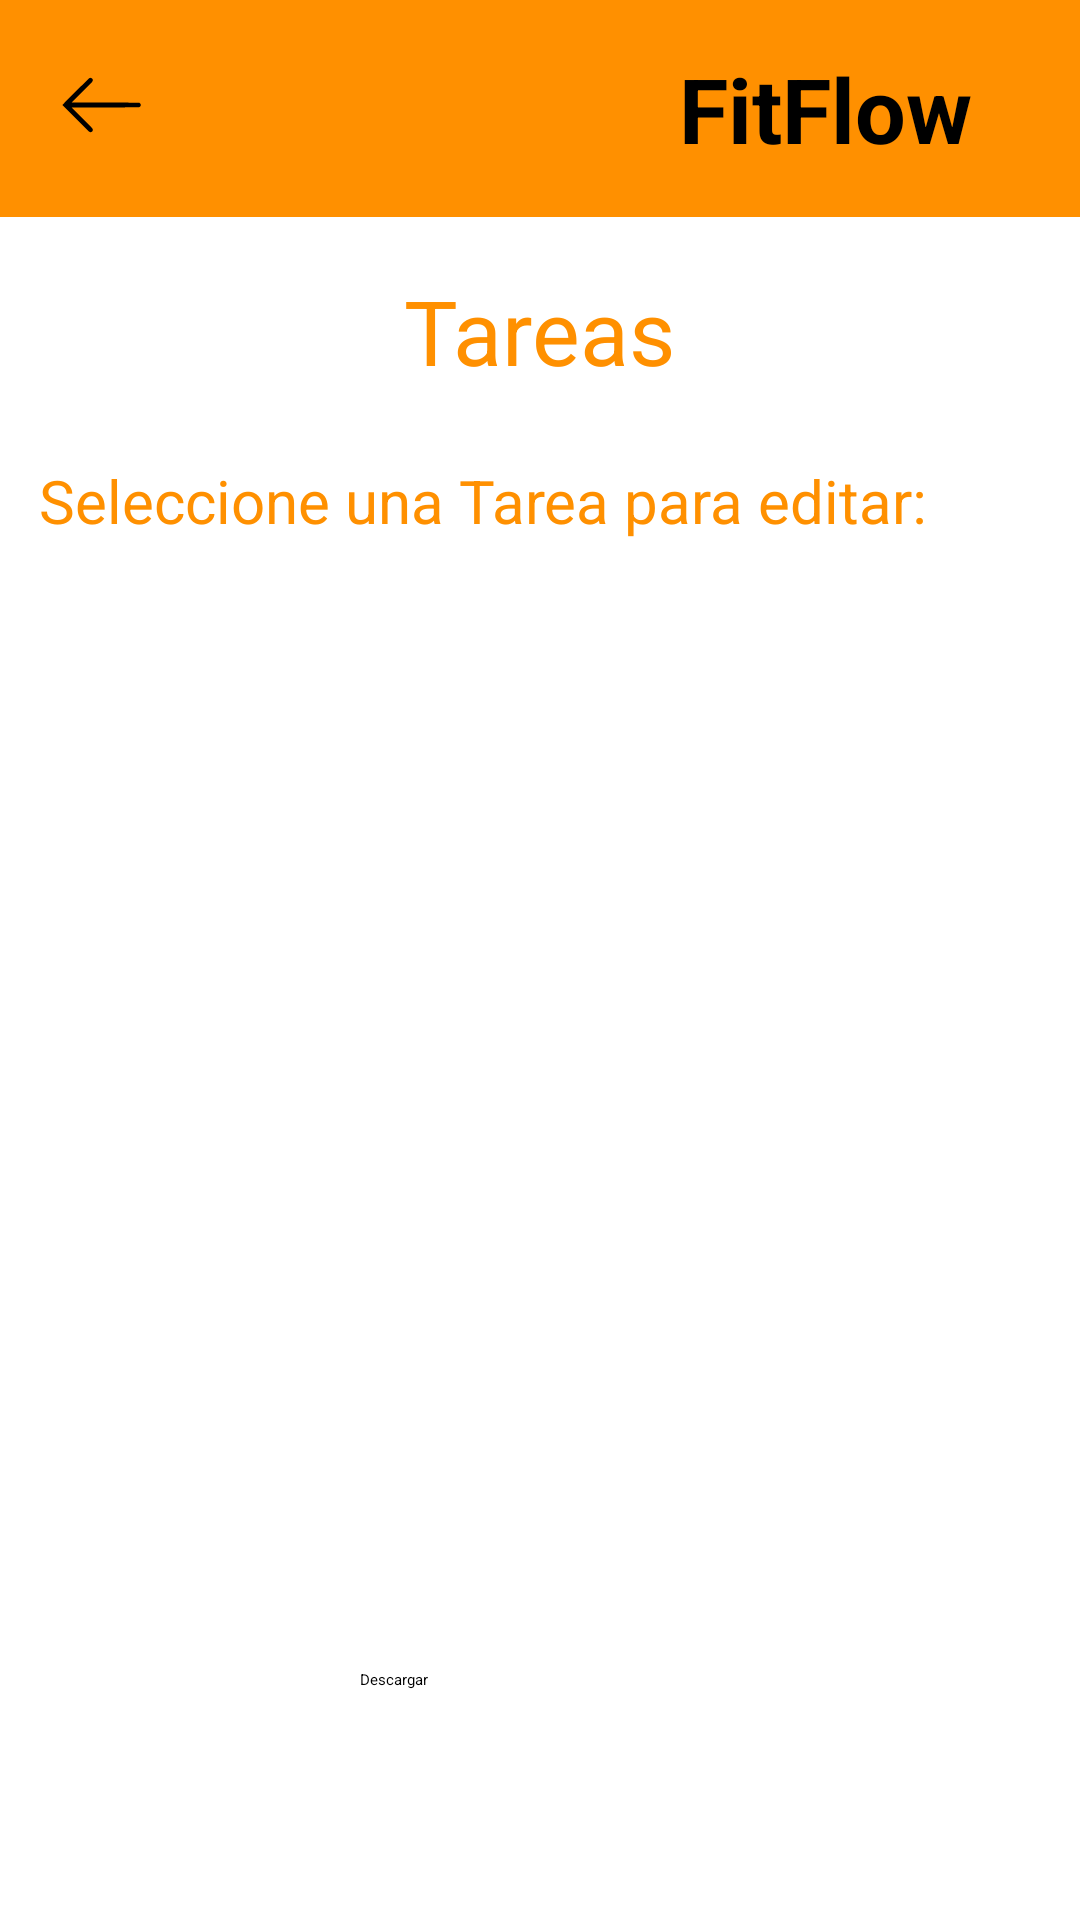

Named icons in this screenshot (1080 x 1920) and their bounding boxes, [x1=x1, y1=y1, x2=x2, y2=y2]:
leftarrow izquierda: [x1=62, y1=77, x2=141, y2=133]
